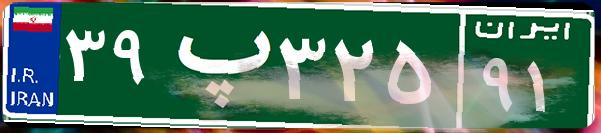1: (525, 38, 570, 115)
2: (330, 28, 385, 110)
3: (273, 28, 330, 110), (57, 26, 110, 107)
5: (385, 28, 445, 110)
9: (475, 38, 525, 113), (110, 28, 158, 105)
پ: (158, 15, 273, 115)
